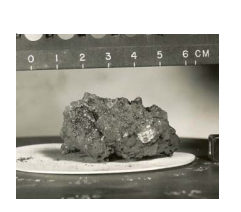Breccia: (58, 94, 180, 156)
